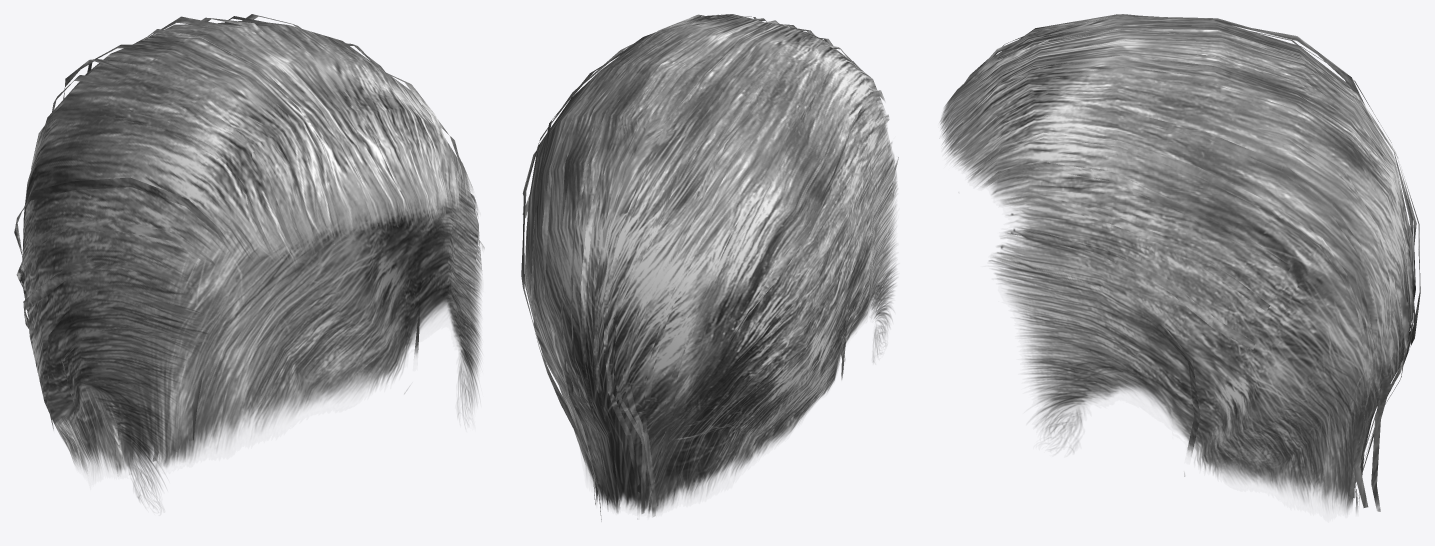
File: hair_short04.gltf
The picture shows the model from 3 angles, left to right: view 1: azimuth 30°, elevation 25°; view 2: azimuth 150°, elevation 25°; view 3: azimuth 270°, elevation 25°; orthographic projection. The views are drawn at different scales.
Parts seen in each view (by area): view 1: hair_short04; view 2: hair_short04; view 3: hair_short04.
Part boxes in pixels (<box>): hair_short04: <box>14,14,484,506</box>; hair_short04: <box>521,14,898,521</box>; hair_short04: <box>939,14,1420,514</box>.
Size of the model in its own units: 0.1531 by 0.2018 by 0.1853.
1 material, 1 textured.
